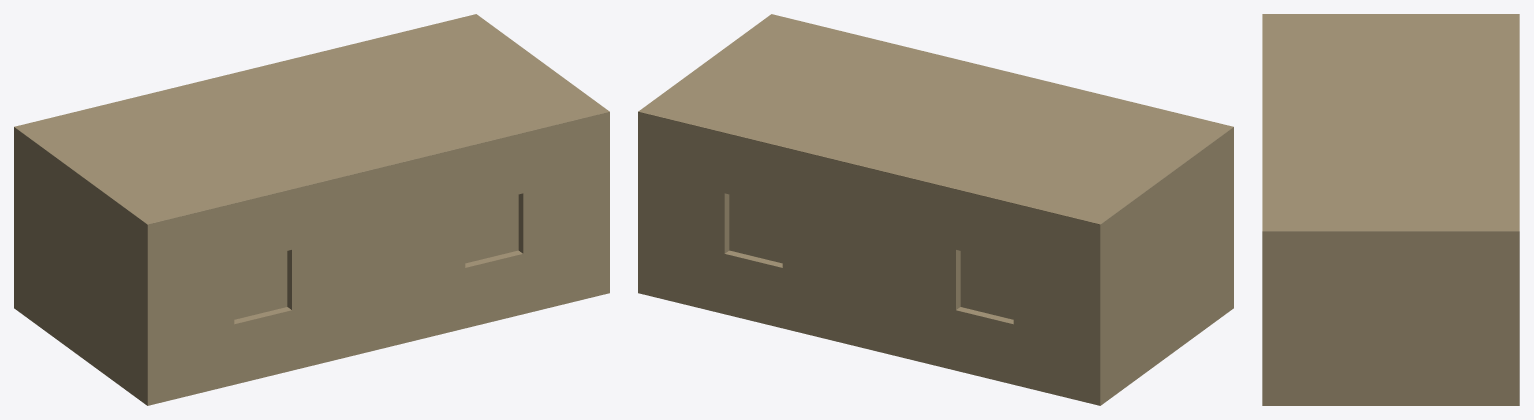
Rendered from house1_LOD0.fbx.
3 views of the same model, side by side, from view 1: azimuth 30°, elevation 25°; view 2: azimuth 150°, elevation 25°; view 3: azimuth 270°, elevation 25° (orthographic). The views are drawn at different scales.
Visible parts, largest first — view 1: house1_LOD0; view 2: house1_LOD0; view 3: house1_LOD0.
Part boxes in pixels (x1=…): house1_LOD0: x1=14, y1=14, x2=609, y2=405; house1_LOD0: x1=638, y1=14, x2=1233, y2=405; house1_LOD0: x1=1262, y1=14, x2=1519, y2=405.
Size of the model in its own units: 800 by 300 by 400.
